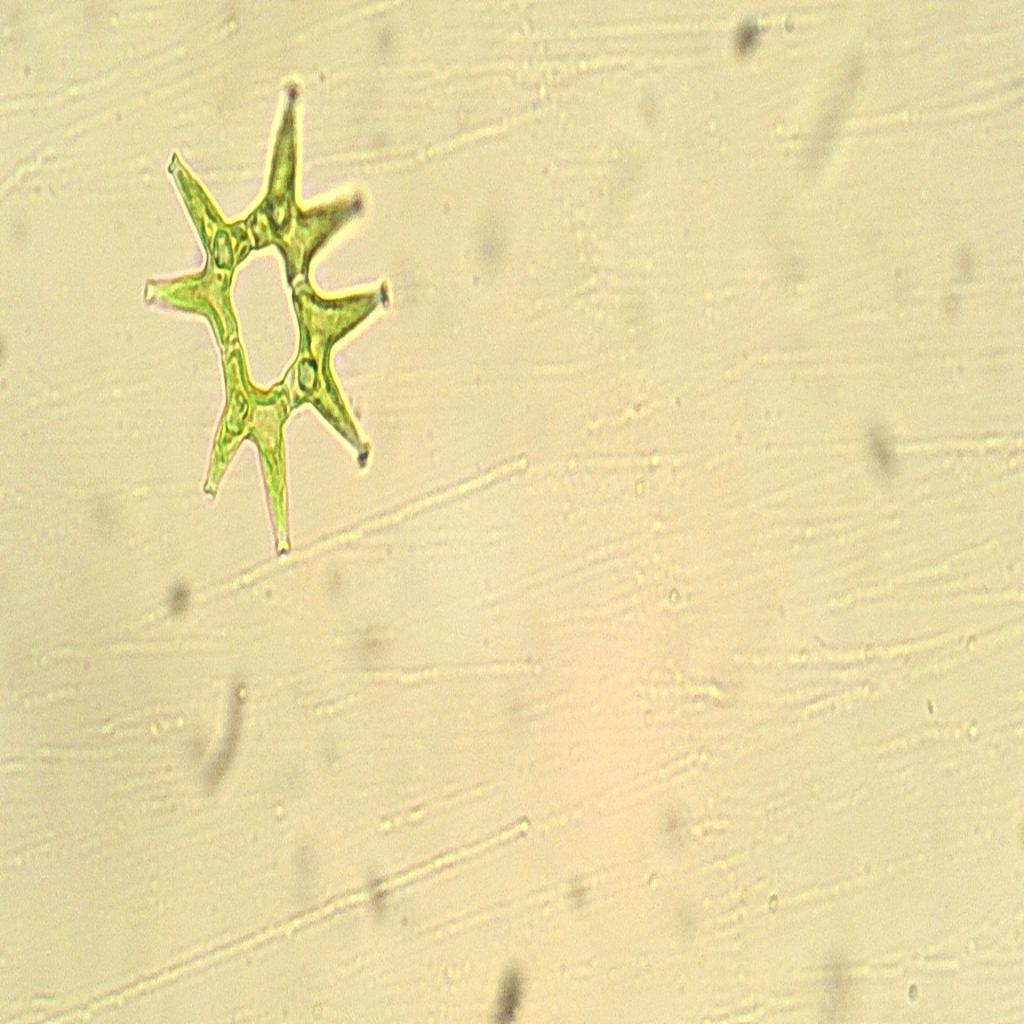Pediastrum_75O: (133, 46, 401, 588)
